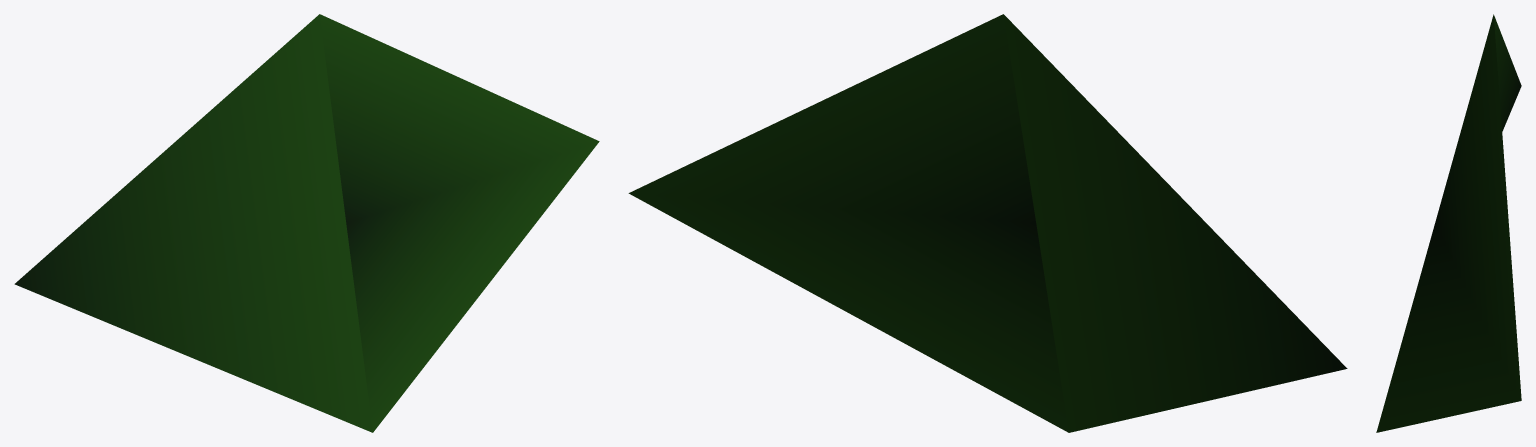
The model's file is SM_Leaf.fbx.
3 views of the same model, side by side, from view 1: azimuth 30°, elevation 25°; view 2: azimuth 150°, elevation 25°; view 3: azimuth 270°, elevation 25° (orthographic). The views are drawn at different scales.
Visible parts, largest first — view 1: SM_Leaf; view 2: SM_Leaf; view 3: SM_Leaf.
Boxes of the visible parts, <box> form: SM_Leaf: <box>14,14,599,432</box>; SM_Leaf: <box>628,14,1347,432</box>; SM_Leaf: <box>1376,14,1521,432</box>.
Bounding box in the file's own units: 1 × 0.6203 × 0.1951.
